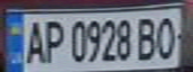0: (66, 16, 84, 64)
2: (100, 16, 118, 63)
8: (115, 16, 136, 63)
9: (84, 16, 103, 63)
A: (21, 17, 48, 65)
B: (133, 15, 160, 61)
O: (151, 12, 181, 61)
P: (39, 16, 66, 64)
